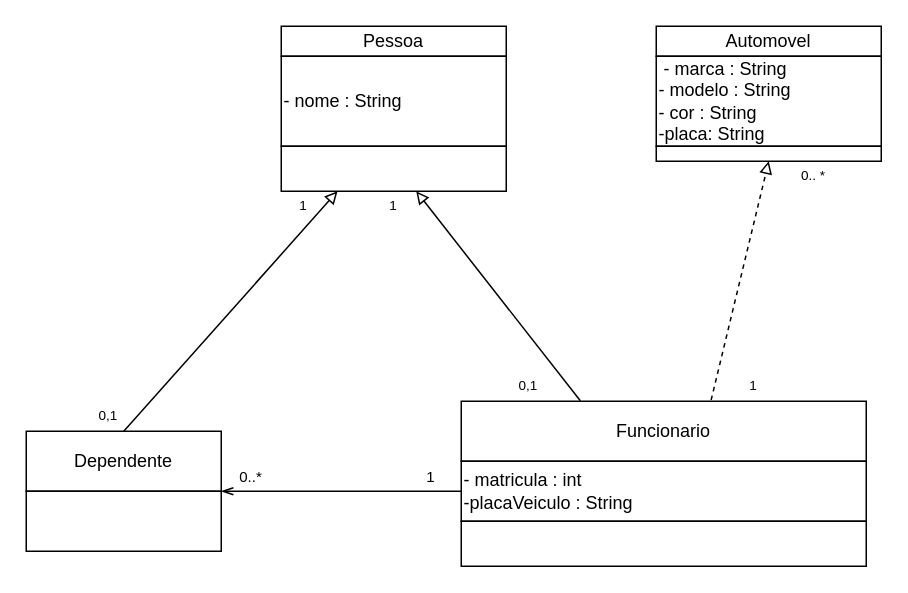
Image size: 908x593. Some labels were removed from this diagram. The centre of each missing label's shape, as x and y in pixels:
+ contatar() : boolean: the point at 393,168
+ verificarVeiculo(autovel : Automovel) : boolean: the point at 663,543
- parentesco : int: the point at 123,520
